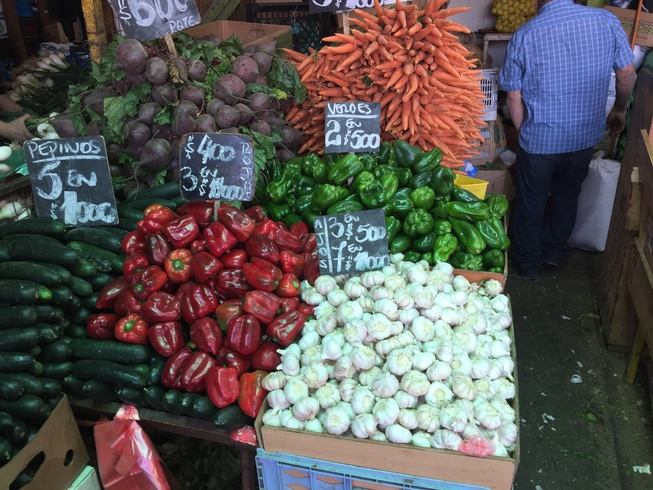precio: (24, 136, 119, 225), (179, 131, 257, 204), (316, 210, 390, 274), (113, 1, 201, 40), (329, 100, 383, 154)
